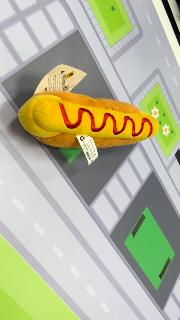hotdog: (18, 90, 160, 150)
